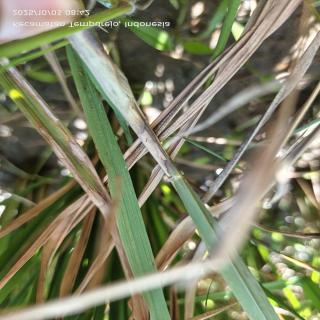Busuk-Pelepah: (128, 109, 172, 179)
